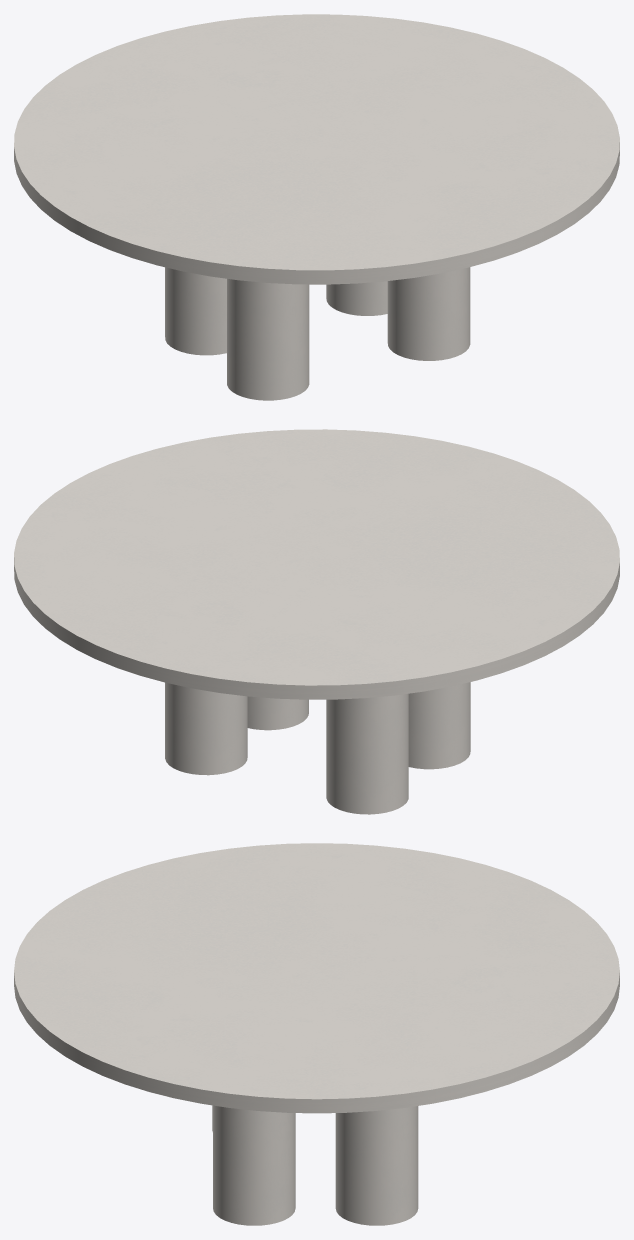
The model's file is pearlwhite_round_standard_grove.glb.
The picture shows the model from 3 angles, top to bottom: view 1: azimuth 30°, elevation 25°; view 2: azimuth 150°, elevation 25°; view 3: azimuth 270°, elevation 25°; orthographic projection.
Parts seen in each view (by area): view 1: pearlwhite_roundstandard_grove; view 2: pearlwhite_roundstandard_grove; view 3: pearlwhite_roundstandard_grove.
Part boxes in pixels (x1,y1,x2,y2): pearlwhite_roundstandard_grove: (14,14,619,400); pearlwhite_roundstandard_grove: (14,429,619,814); pearlwhite_roundstandard_grove: (14,843,619,1225).
Size of the model in its own units: 6.97 by 2.51 by 6.97.
Materials: 1 (1 with a texture image).
